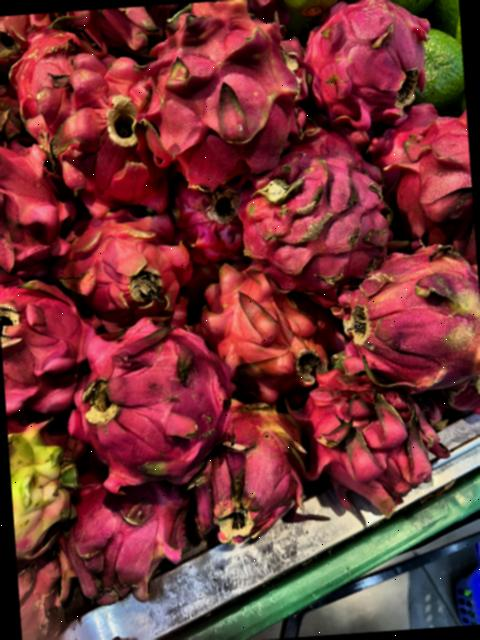buah-naga-belum-matang: (322, 247, 480, 400), (194, 395, 303, 539), (6, 411, 82, 564), (9, 24, 91, 148)
buah-naga-matang: (127, 0, 305, 188), (59, 324, 236, 485), (234, 149, 392, 292), (41, 52, 174, 214), (290, 370, 439, 509), (303, 0, 432, 143), (46, 470, 200, 587), (366, 98, 476, 260), (58, 214, 199, 329), (0, 270, 93, 414), (0, 121, 78, 276)
